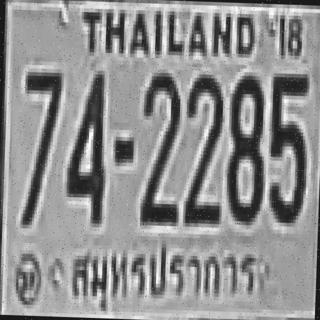N02: (136, 70, 180, 224), (182, 70, 223, 224)
N04: (63, 67, 107, 222)
N05: (266, 67, 308, 222)
N07: (19, 68, 61, 226), (21, 68, 61, 174)
N08: (223, 72, 264, 222)
P57: (65, 239, 261, 302)
